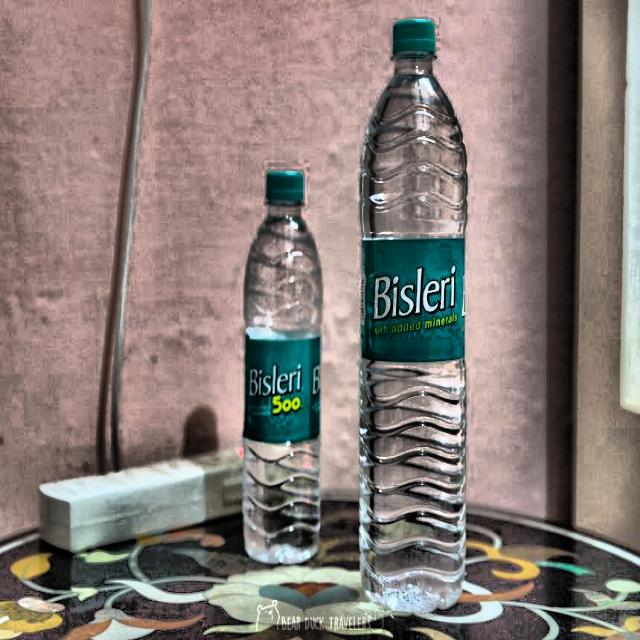Bottles: (348, 11, 476, 615)
